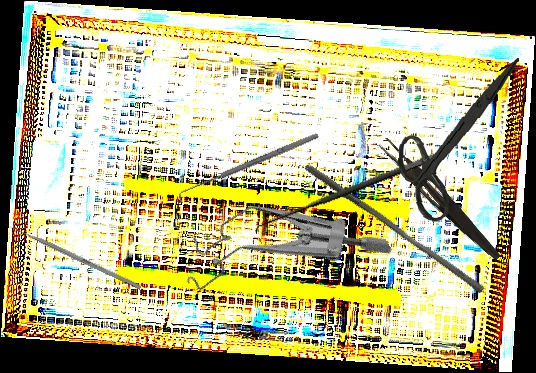Dressing Forceps: (373, 136, 508, 263)
Hook Surgical: (251, 146, 454, 245), (174, 130, 323, 204)
Iris Scissors: (394, 50, 519, 227)
Pusher: (298, 162, 491, 295), (3, 221, 142, 290)
Speculum: (168, 151, 394, 352)
